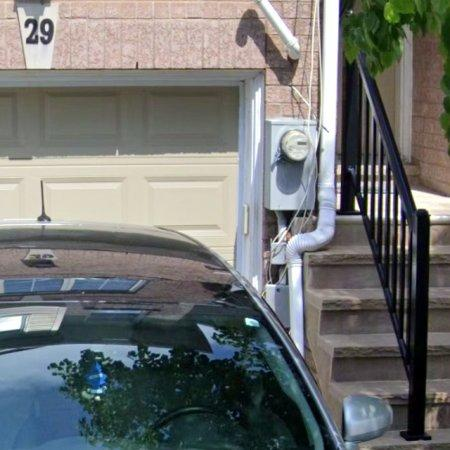stairs: (305, 216, 409, 432), (373, 219, 450, 450)
